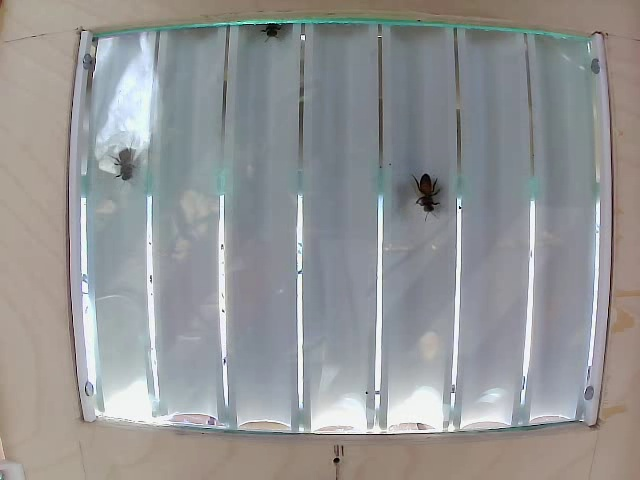bee: (410, 164, 441, 222), (108, 141, 133, 182)
